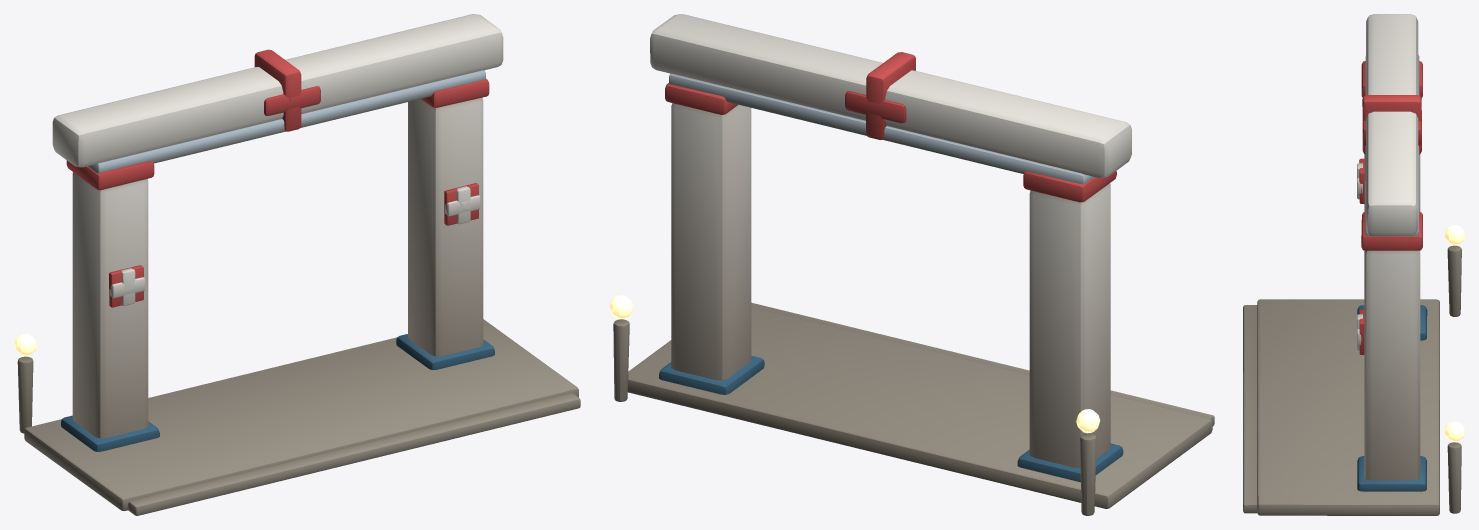
3 views of the same model, side by side, from view 1: azimuth 30°, elevation 25°; view 2: azimuth 150°, elevation 25°; view 3: azimuth 270°, elevation 25° (orthographic). The views are drawn at different scales.
Visible parts, largest first — view 1: gate_c82b9b90; view 2: gate_c82b9b90; view 3: gate_c82b9b90.
Part boxes in pixels (x1=…): gate_c82b9b90: x1=14, y1=14, x2=580, y2=515; gate_c82b9b90: x1=609, y1=14, x2=1214, y2=515; gate_c82b9b90: x1=1243, y1=14, x2=1464, y2=515.
Size of the model in its own units: 5.6 by 4.01 by 2.54.
